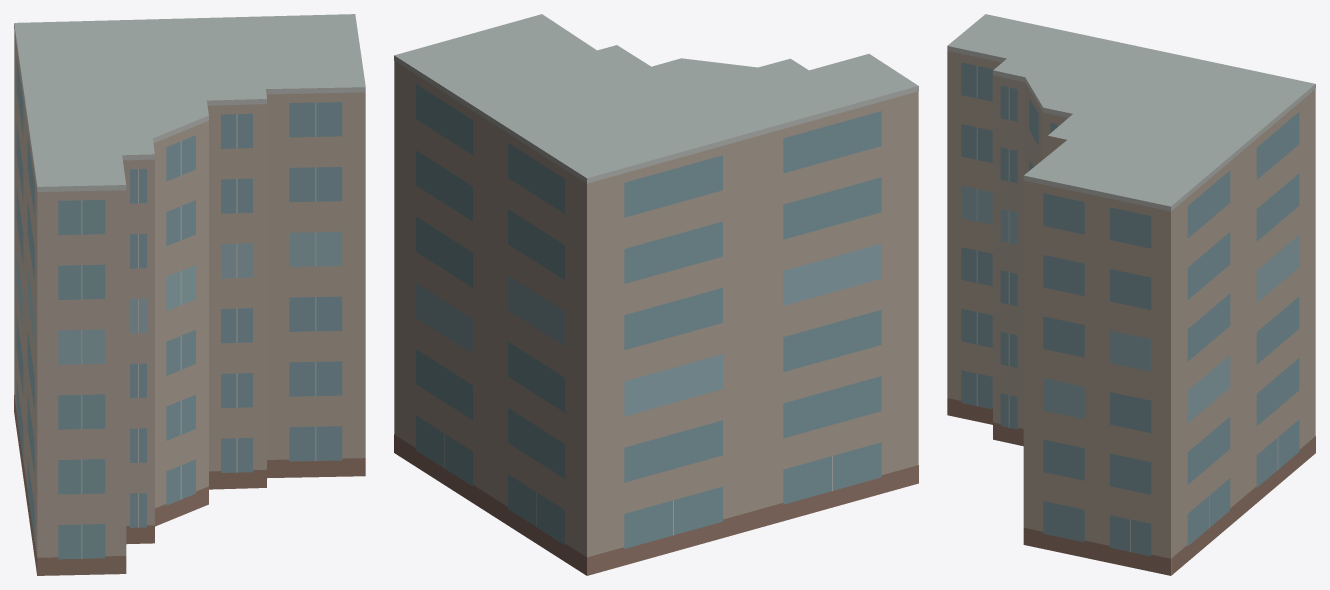
Rendered from survey-upis-32711645.glb.
3 renders of one model, left to right at view 1: azimuth 30°, elevation 25°; view 2: azimuth 150°, elevation 25°; view 3: azimuth 270°, elevation 25°, orthographic. The views are drawn at different scales.
Visible parts, largest first — view 1: survey-upis-32711645.tmp; view 2: survey-upis-32711645.tmp; view 3: survey-upis-32711645.tmp.
Part boxes in pixels (x1=…): survey-upis-32711645.tmp: x1=14, y1=14, x2=365, y2=575; survey-upis-32711645.tmp: x1=394, y1=14, x2=918, y2=575; survey-upis-32711645.tmp: x1=947, y1=14, x2=1315, y2=575.
Bounding box in the file's own units: 20.48 × 18.3 × 16.56.
